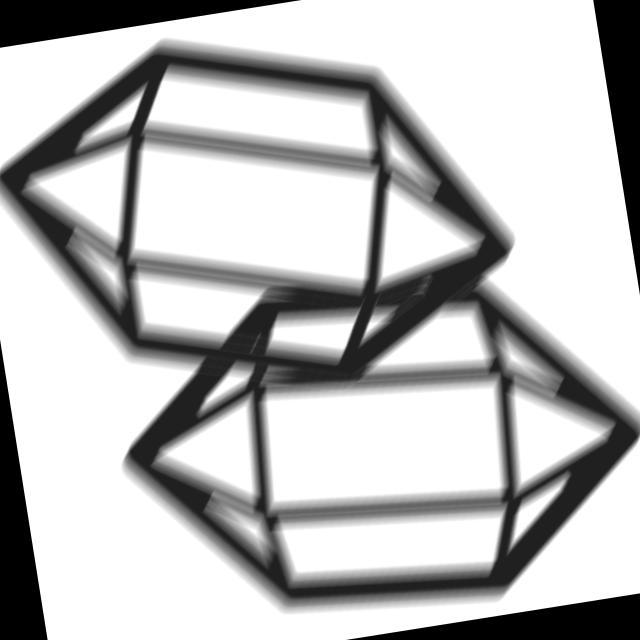crystal: (81, 192, 640, 640), (1, 1, 542, 439)
